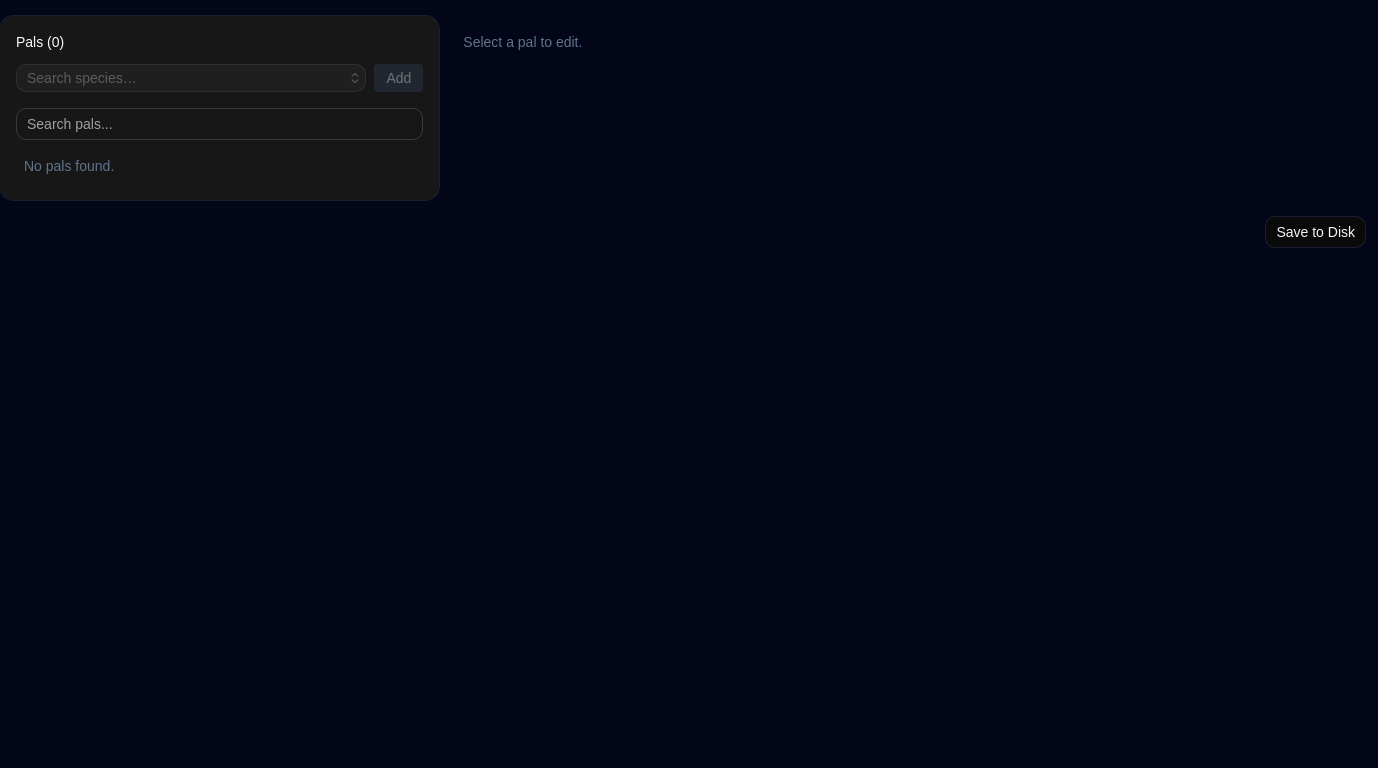
it: SavesPage commit feedback › shows a success toast when Save to Disk succeeds
The width and height of the screenshot is (1378, 768).
Click the button "Save to Disk": (1316, 232) [1265,216,1366,248]
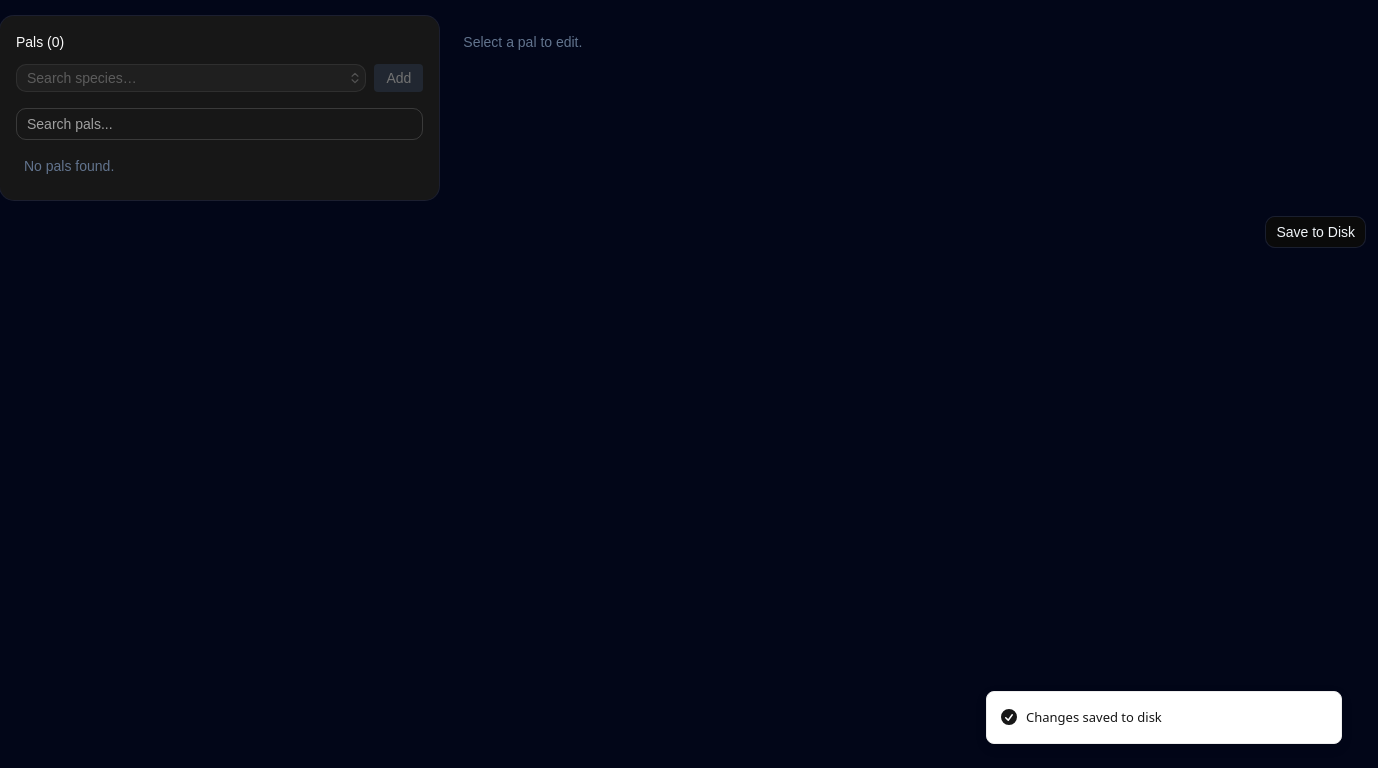
Expected: the text "Changes saved to disk" is shown, [1026,708,1162,727]
